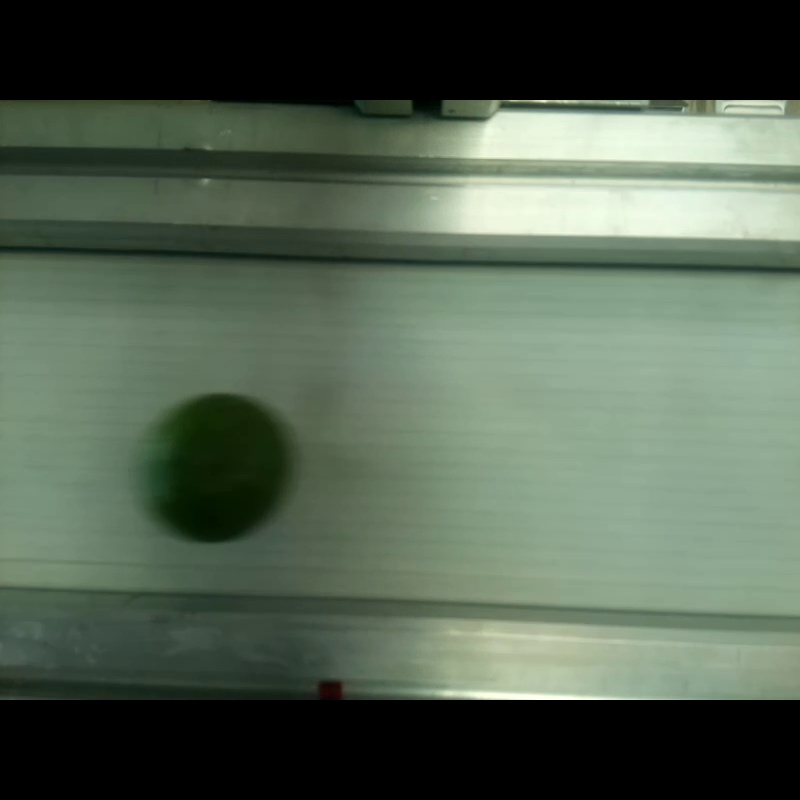lime: (140, 393, 289, 541)
